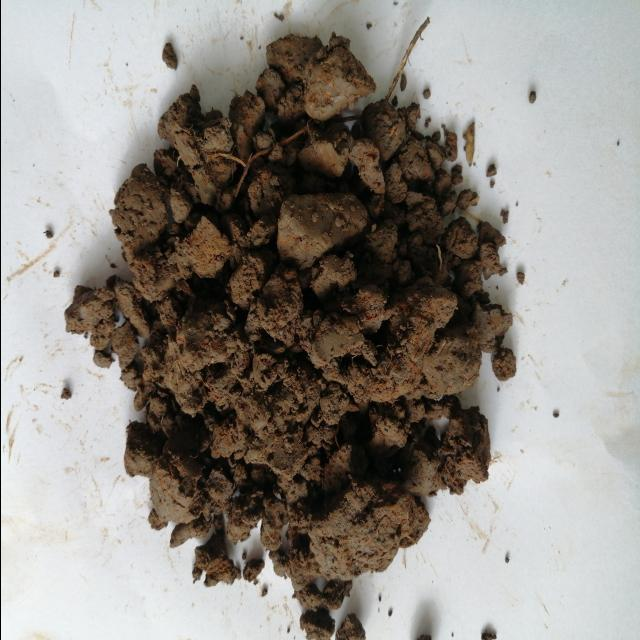soil: (143, 86, 481, 556)
